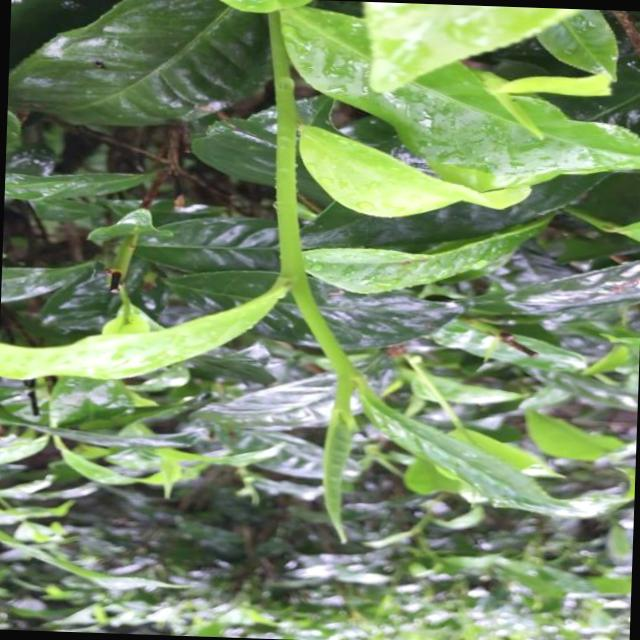Stem: (279, 180, 300, 277)
